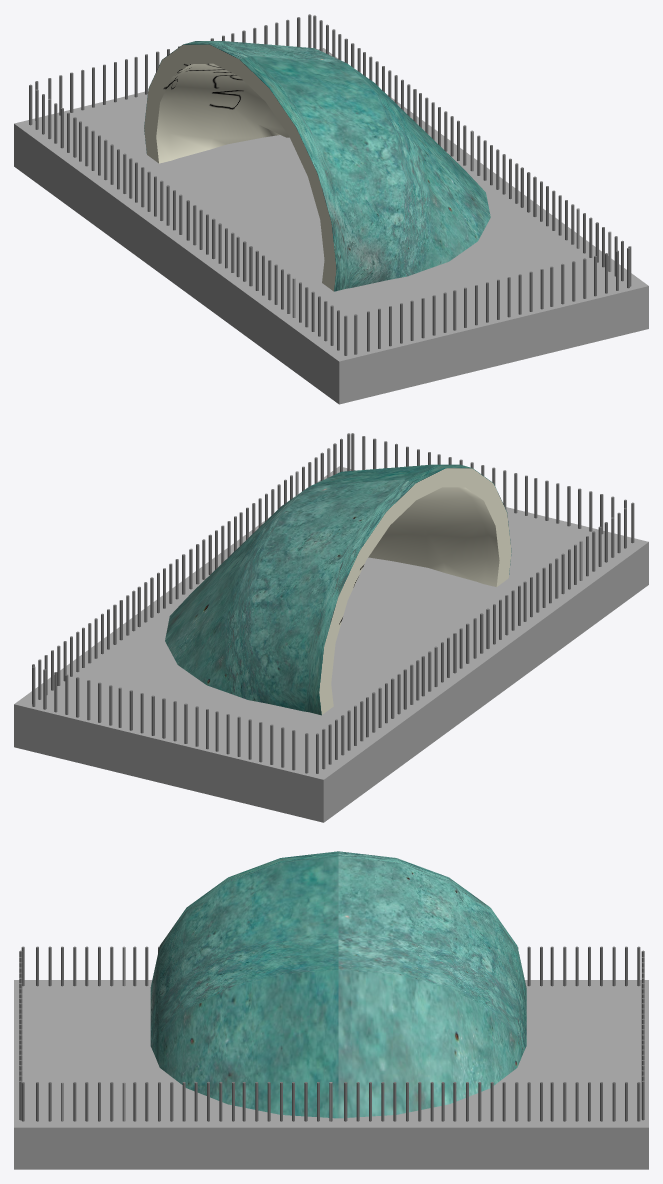
Rendered from Enghave.fbx.
The picture shows the model from 3 angles, top to bottom: view 1: azimuth 30°, elevation 25°; view 2: azimuth 150°, elevation 25°; view 3: azimuth 270°, elevation 25°; orthographic projection. The views are drawn at different scales.
Visible parts, largest first — view 1: polySurface12; view 2: polySurface12; view 3: polySurface12.
Boxes of the visible parts, <box> form: polySurface12: <box>14,14,648,404</box>; polySurface12: <box>14,433,648,822</box>; polySurface12: <box>14,851,648,1169</box>.
Size of the model in its own units: 7.42 by 4.76 by 13.49.
Materials: 4 (1 with a texture image).
